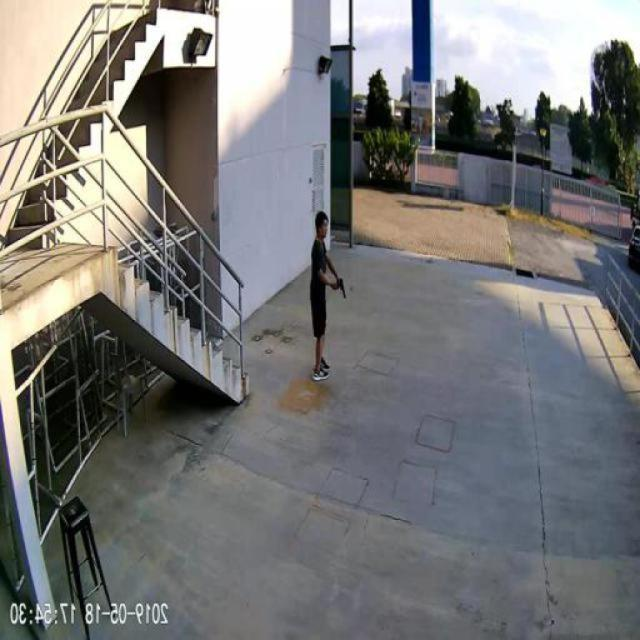pistol: (338, 274, 349, 298)
